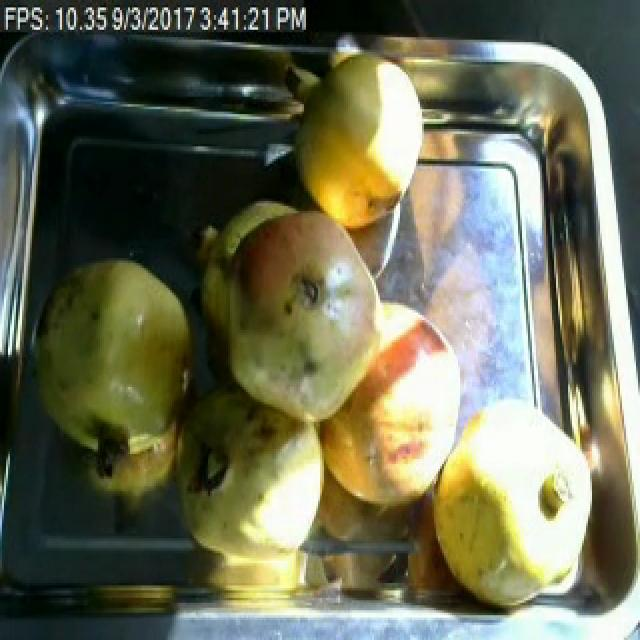fruit: (210, 193, 408, 449), (416, 387, 608, 628), (26, 248, 208, 474), (310, 298, 472, 528), (160, 390, 340, 580), (280, 39, 434, 246)
